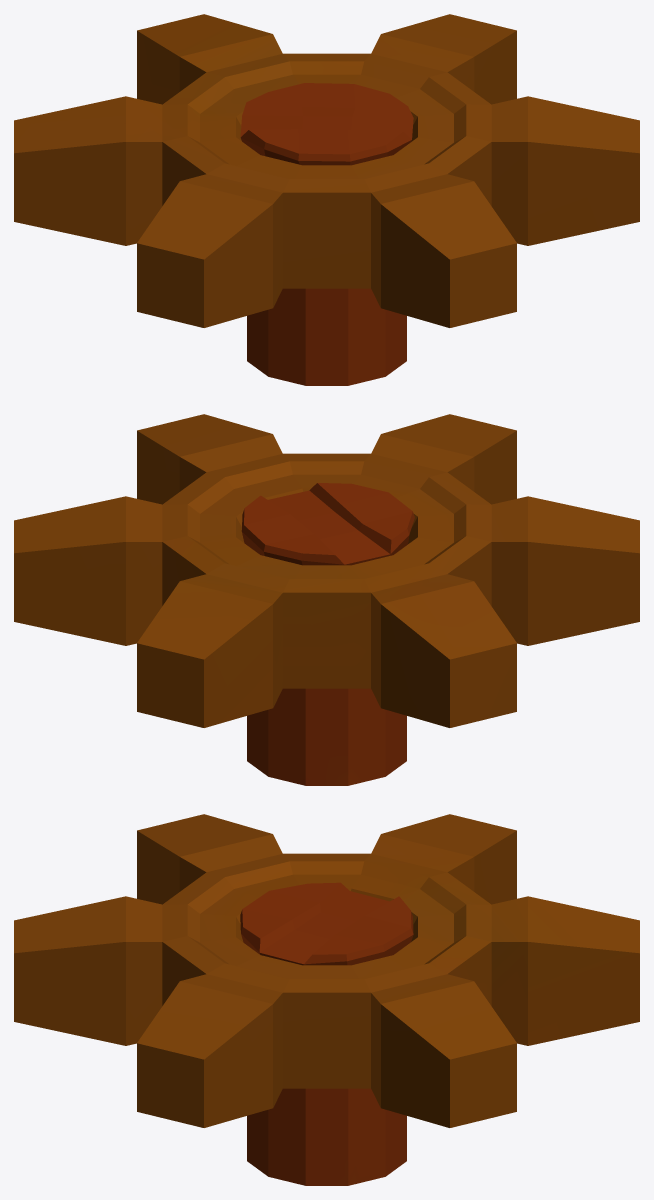
Rendered from Gear Small_02.glb.
3 views of the same model, one above another, from view 1: azimuth 30°, elevation 25°; view 2: azimuth 150°, elevation 25°; view 3: azimuth 270°, elevation 25° (orthographic).
Parts seen in each view (by area): view 1: GearSmall_02; view 2: GearSmall_02; view 3: GearSmall_02.
Part boxes in pixels (left/top/right/bottom): GearSmall_02: left=14, top=14, right=639, bottom=385; GearSmall_02: left=14, top=414, right=639, bottom=785; GearSmall_02: left=14, top=814, right=639, bottom=1185.
Size of what is drawn, in the model's own units: 0.6816 by 0.3036 by 0.7344.
1 material, 1 textured.
